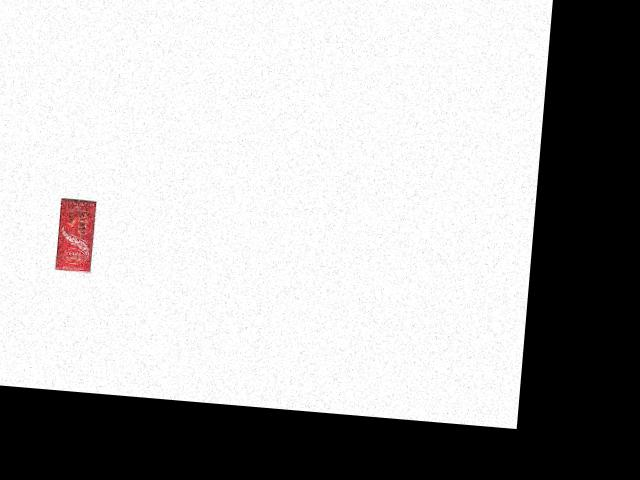chocolate: (53, 192, 99, 274)
